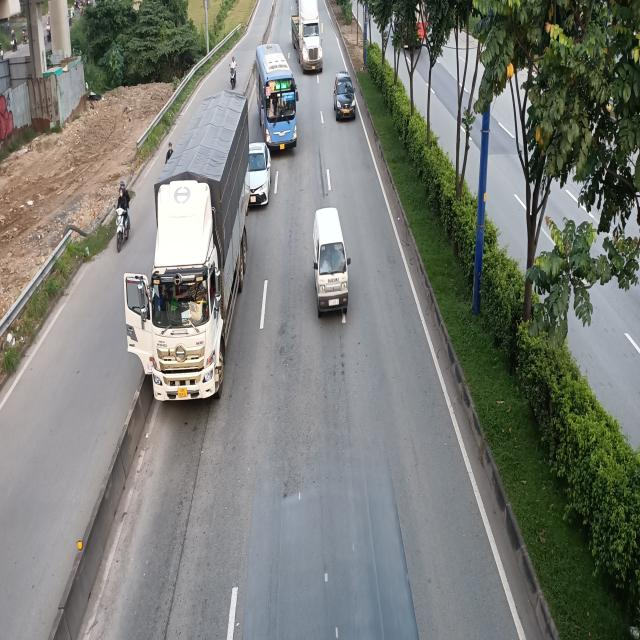car: (250, 141, 272, 207), (334, 73, 356, 122)
coach: (256, 44, 298, 151)
container: (290, 0, 322, 74)
truck: (139, 92, 250, 411)
van: (313, 205, 351, 316)
